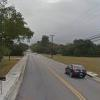Car: (62, 60, 87, 84)
